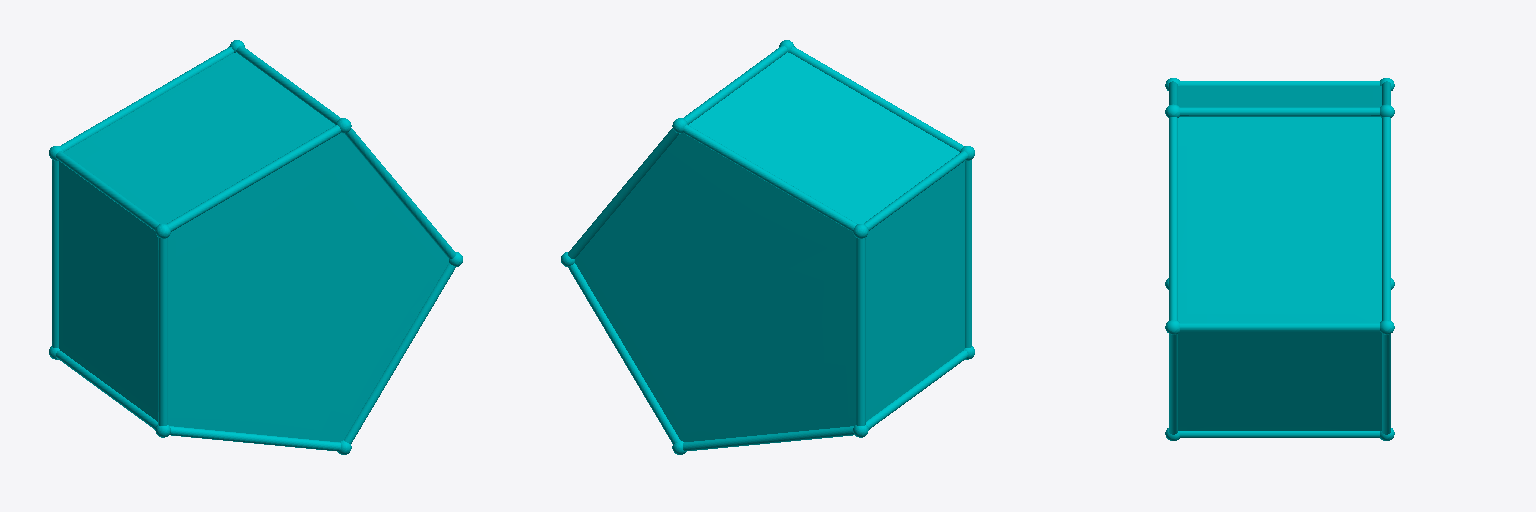
Rendered from pent_cyan.obj.
The picture shows the model from 3 angles: view 1: azimuth 30°, elevation 25°; view 2: azimuth 150°, elevation 25°; view 3: azimuth 270°, elevation 25°; orthographic projection.
Parts seen in each view (by area): view 1: pent_pent.001; view 2: pent_pent.001; view 3: pent_pent.001.
Part boxes in pixels (left/top/right/bottom): pent_pent.001: left=49, top=40, right=462, bottom=454; pent_pent.001: left=561, top=40, right=974, bottom=454; pent_pent.001: left=1165, top=78, right=1394, bottom=440.
Size of the model in its own units: 8.57 by 9 by 5.58.